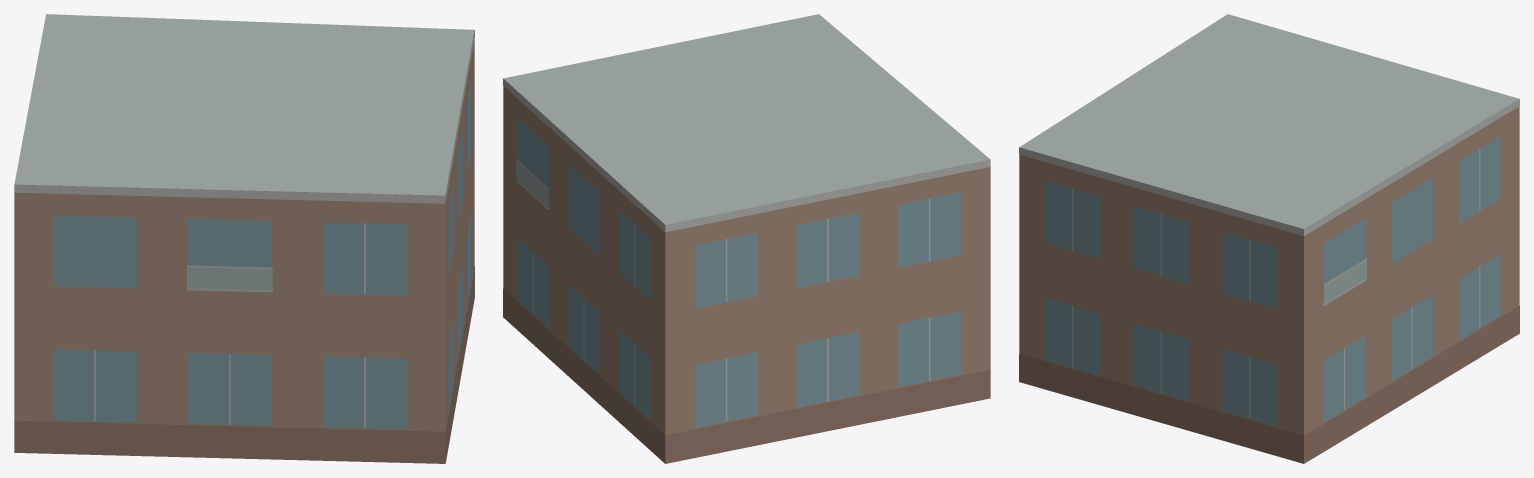
Rendered from survey-upis-32937637.glb.
The picture shows the model from 3 angles, left to right: view 1: azimuth 30°, elevation 25°; view 2: azimuth 150°, elevation 25°; view 3: azimuth 270°, elevation 25°; orthographic projection. The views are drawn at different scales.
Parts seen in each view (by area): view 1: survey-upis-32937637.tmp; view 2: survey-upis-32937637.tmp; view 3: survey-upis-32937637.tmp.
Part boxes in pixels (x1=…): survey-upis-32937637.tmp: x1=14, y1=14, x2=474, y2=463; survey-upis-32937637.tmp: x1=503, y1=14, x2=990, y2=463; survey-upis-32937637.tmp: x1=1019, y1=14, x2=1519, y2=463.
Bounding box in the file's own units: 15.74 × 8 × 15.47.
